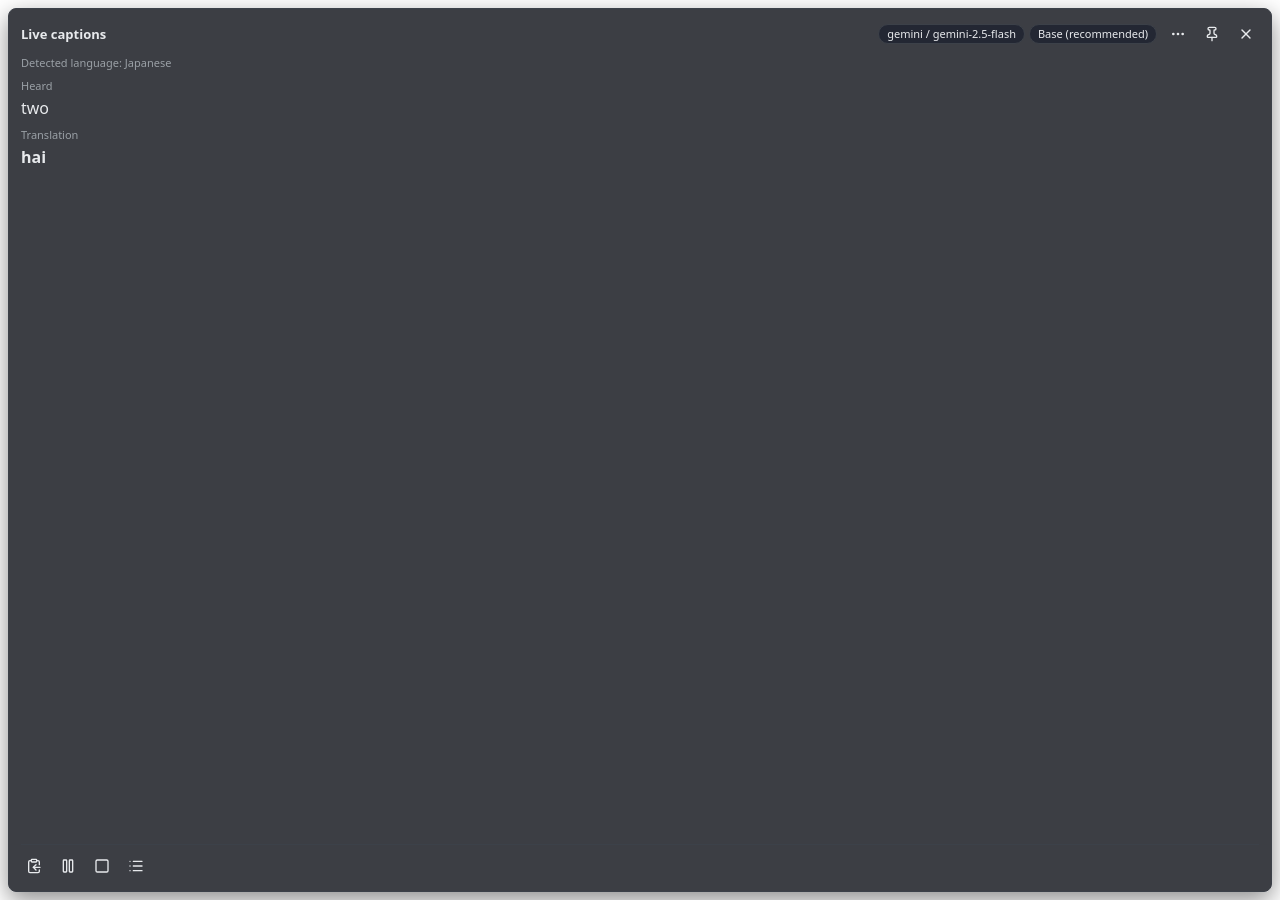
Test: CaptionOverlayView - full transcript (item 3, the owner's biggest complaint) › accumulates every caption and shows them all, in order, in the expanded transcript view
The width and height of the screenshot is (1280, 900).
Expected: the text "one" is not shown
Expected: the text "two" is shown, [21,97,49,119]
Click the button named "View full transcript" at [136, 866], box [123,853,149,879]
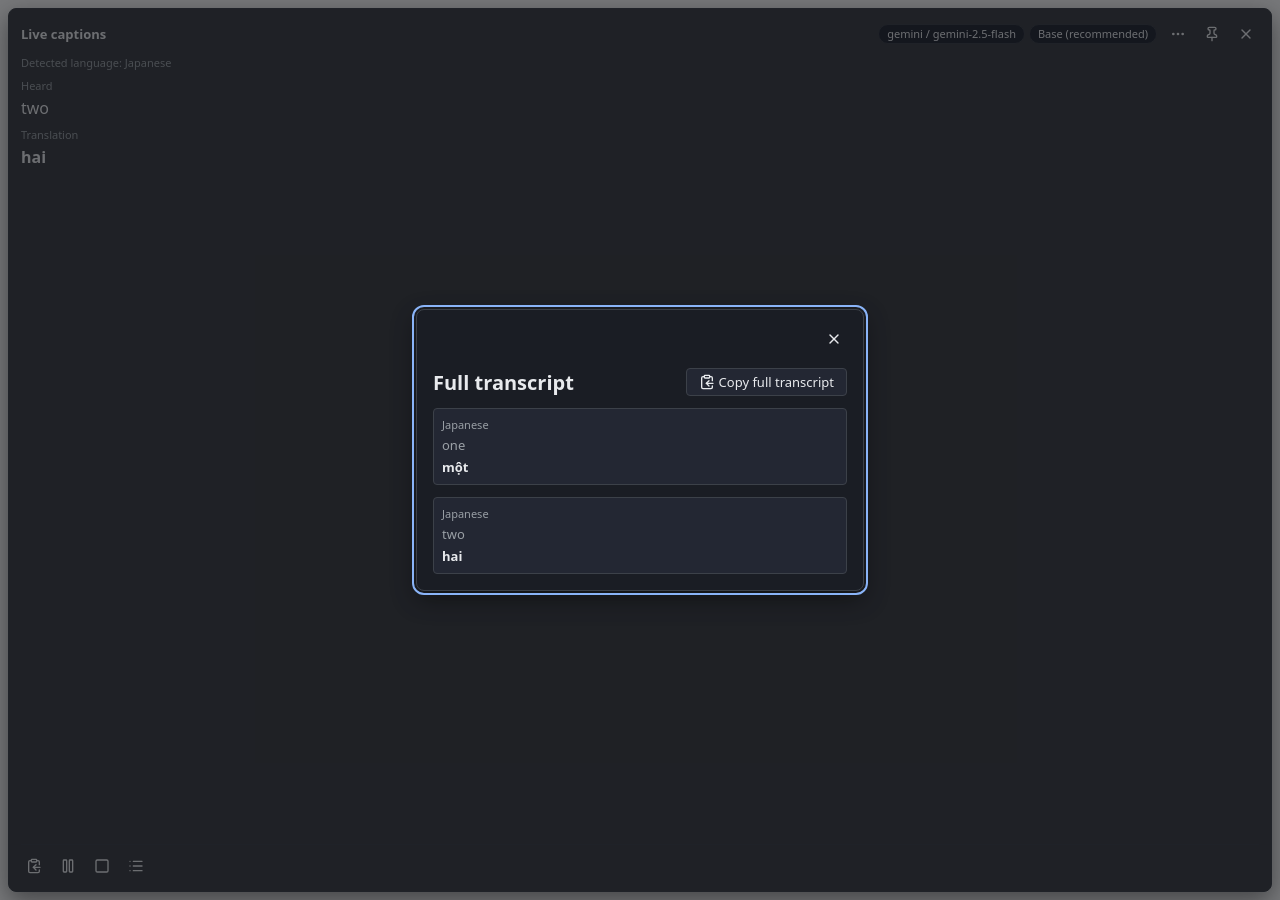
Expected: the dialog "Full transcript" is shown, [416,309,864,591]
Expected: the text "one" is shown, [442,436,465,454]
Expected: the text "một" is shown, [442,458,468,476]
